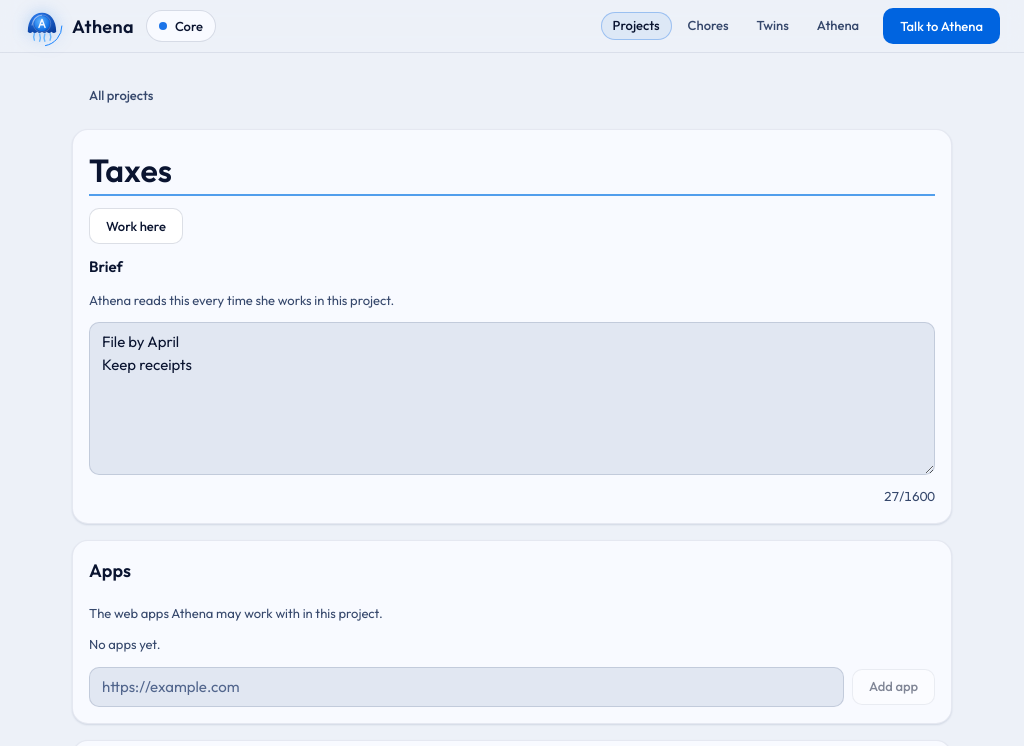
Test: project level › offers Work here when the project is not active
Step 1. Click the button "Work here" → (136, 226), box [89,208,183,244]
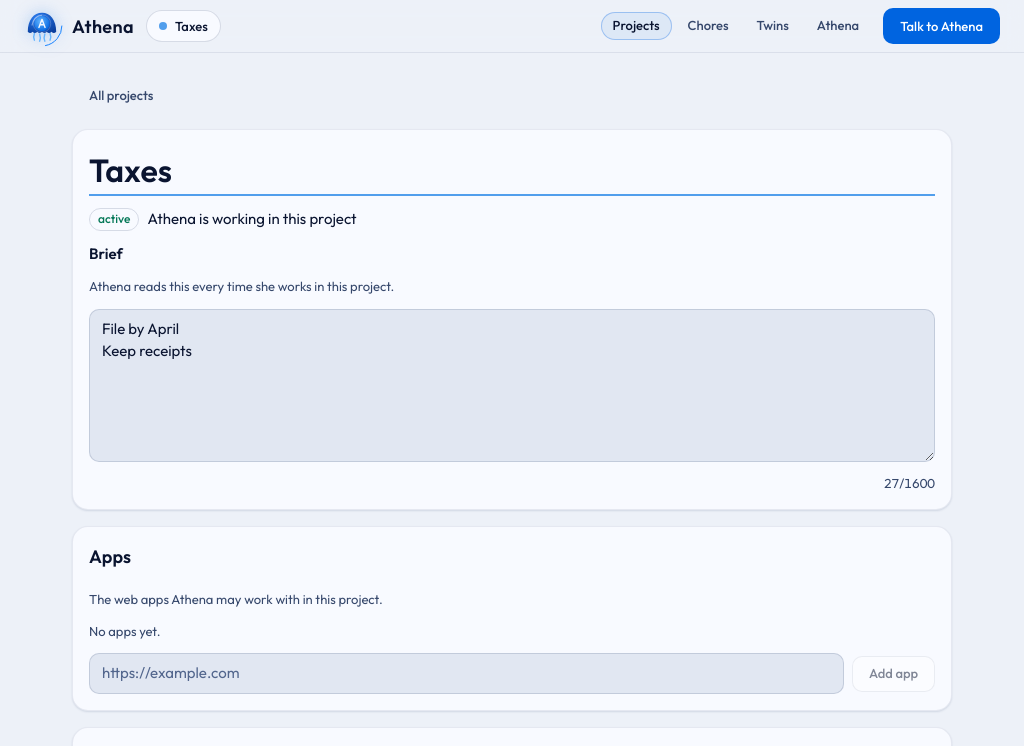
Check: the text "Athena is working in this project" is shown, box [147,209,357,228]
